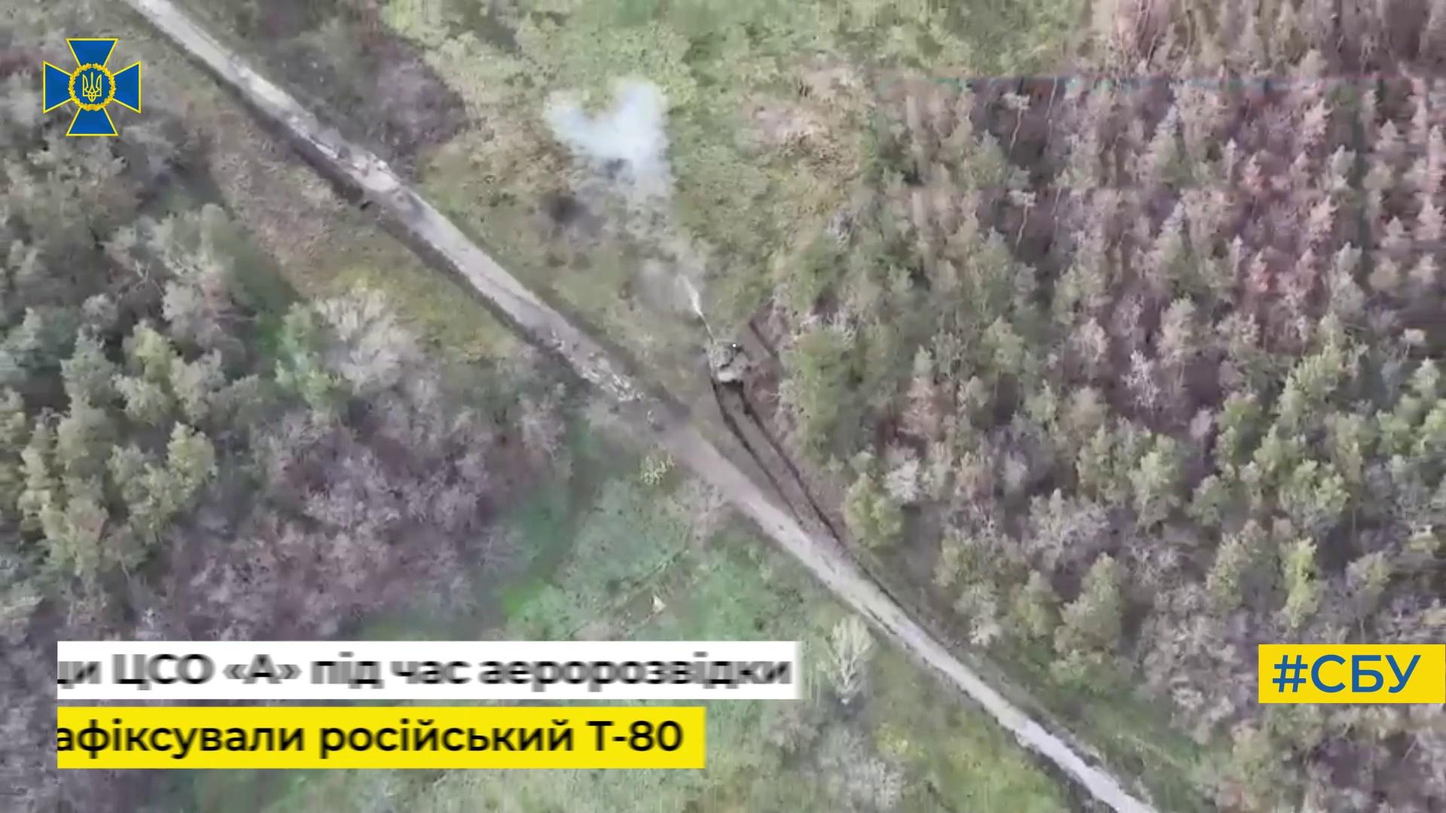vehicle: (705, 313, 743, 385)
